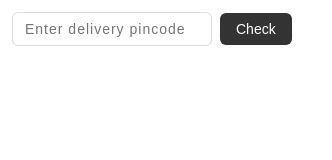
Test: rejects an invalid pincode without calling the server
Type "1234" into the field labelled "delivery pincode" at (112, 29), box [12,12,212,46]
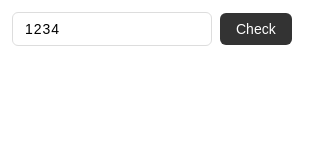
Click the button "Check" at (256, 29), box [220,13,292,45]
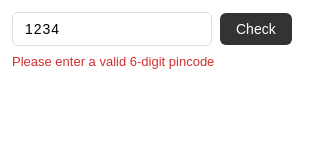
Check: the message shows "valid 6-digit pincode", box [12,54,214,69]
